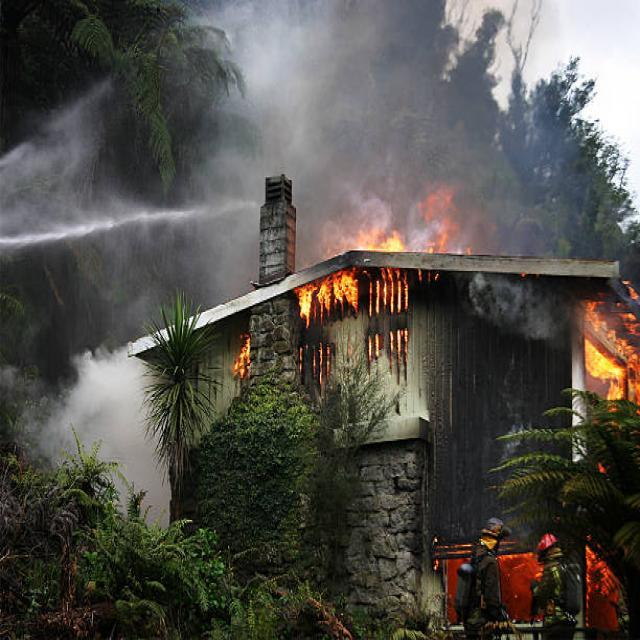Fire: (316, 200, 436, 310)
Smoke: (298, 10, 556, 259), (73, 354, 172, 548)
